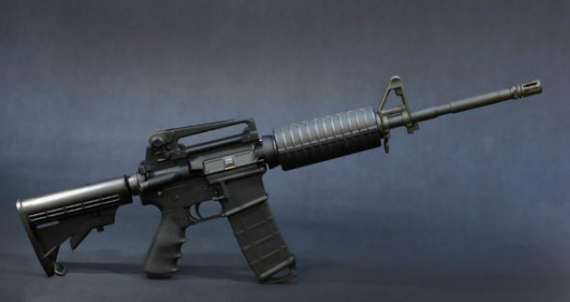Rifle: (12, 70, 547, 291)
